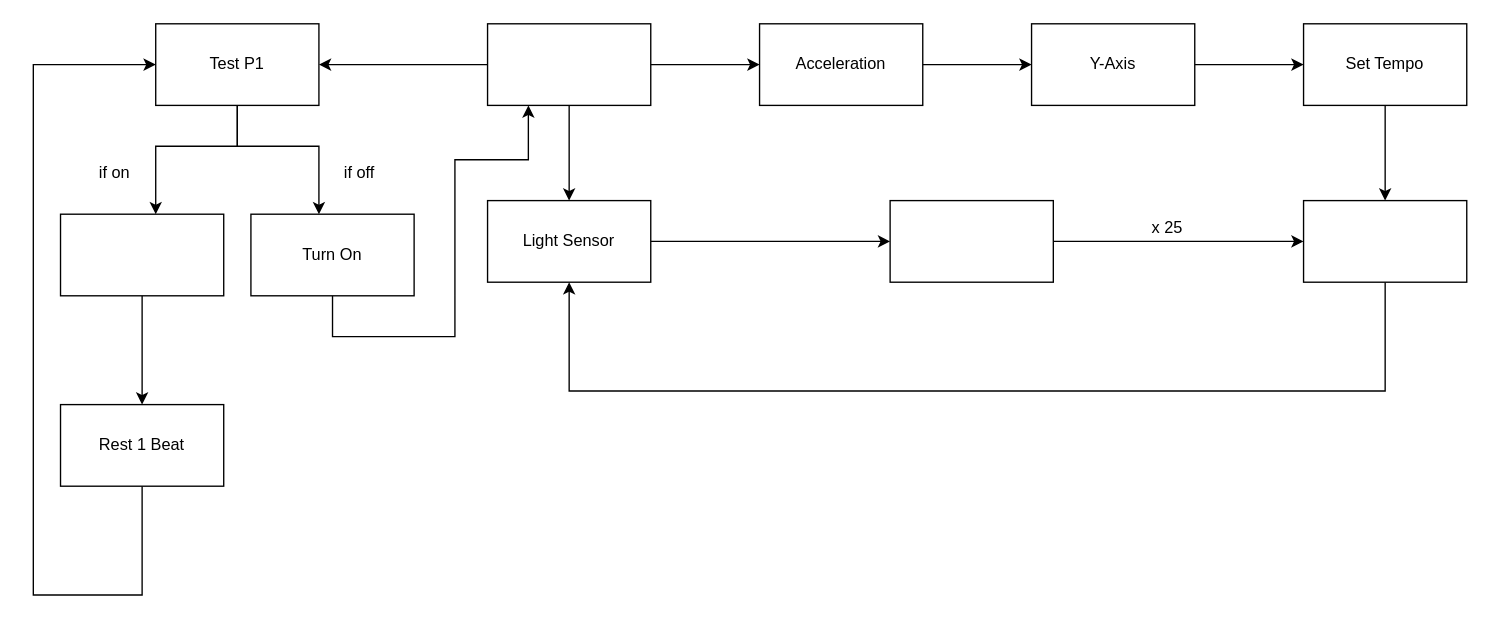
Image size: 1491x630. Some labels were removed from this diagram. Here are the shapes that lost their labels. From the top down, the box of each, then its label:
(486, 22, 651, 105): On
(59, 213, 224, 296): Turn Off
(889, 199, 1053, 282): Test Light Sensor
(1302, 199, 1467, 282): Play Tone 1/4 Beat
